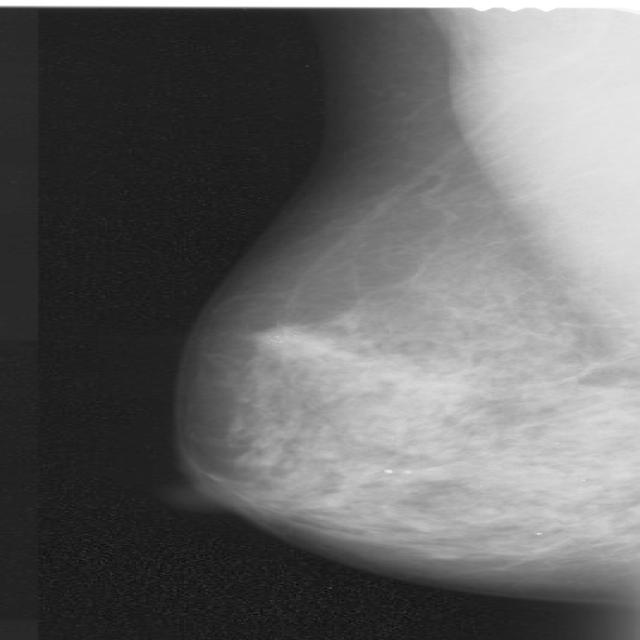tumour: (253, 326, 337, 361)
